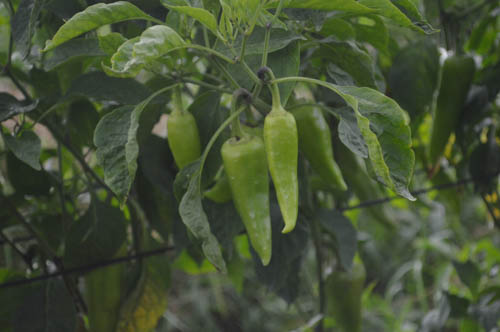ChiliPepper: (219, 140, 273, 264), (431, 55, 472, 168), (262, 114, 299, 232), (298, 103, 349, 185), (168, 114, 202, 164)
